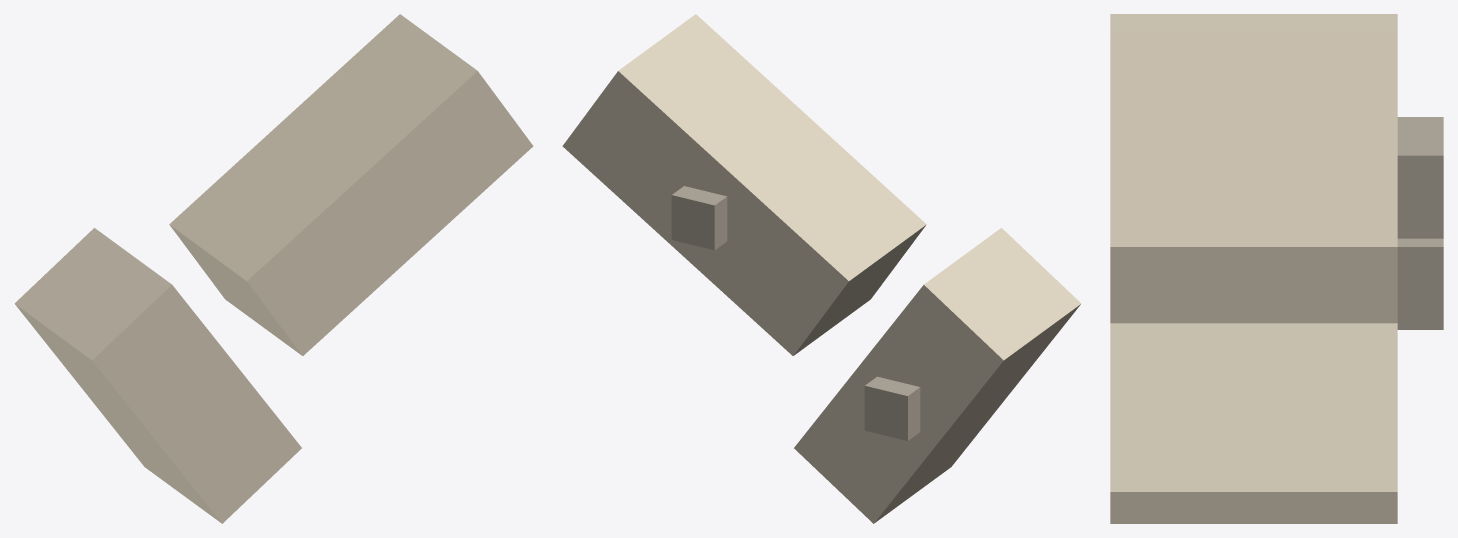
The model's file is historic-palestine-13_34_3546_3289.glb.
3 renders of one model, left to right at view 1: azimuth 30°, elevation 25°; view 2: azimuth 150°, elevation 25°; view 3: azimuth 270°, elevation 25°, orthographic. The views are drawn at different scales.
Parts seen in each view (by area): view 1: Building_.001, Building_; view 2: Building_.001, Building_, Roof access hut, Roof access hut .001; view 3: Building_.001, Building_, Roof access hut .001, Roof access hut.
Boxes of the visible parts, x1=… form: Building_.001: x1=169, y1=14, x2=533, y2=355; Building_: x1=14, y1=228, x2=301, y2=523; Building_.001: x1=562, y1=14, x2=926, y2=355; Building_: x1=794, y1=228, x2=1081, y2=523; Roof access hut: x1=864, y1=376, x2=920, y2=440; Roof access hut .001: x1=671, y1=186, x2=727, y2=250; Building_.001: x1=1110, y1=32, x2=1397, y2=323; Building_: x1=1110, y1=14, x2=1397, y2=523; Roof access hut .001: x1=1397, y1=117, x2=1443, y2=238; Roof access hut: x1=1397, y1=238, x2=1443, y2=329.
Bounding box in the file's own units: 24.59 × 20.8 × 8.7.
